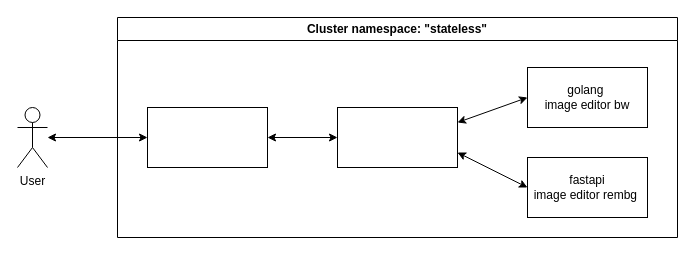
Some shapes in this 695 by 255 pixel diagram are drawn without their labels. Here are the shapes that lost their labels. From the top down, the centre of each, then its label:
At (207,137): "nginx frontend".
At (397,137): "fastapi backend".
